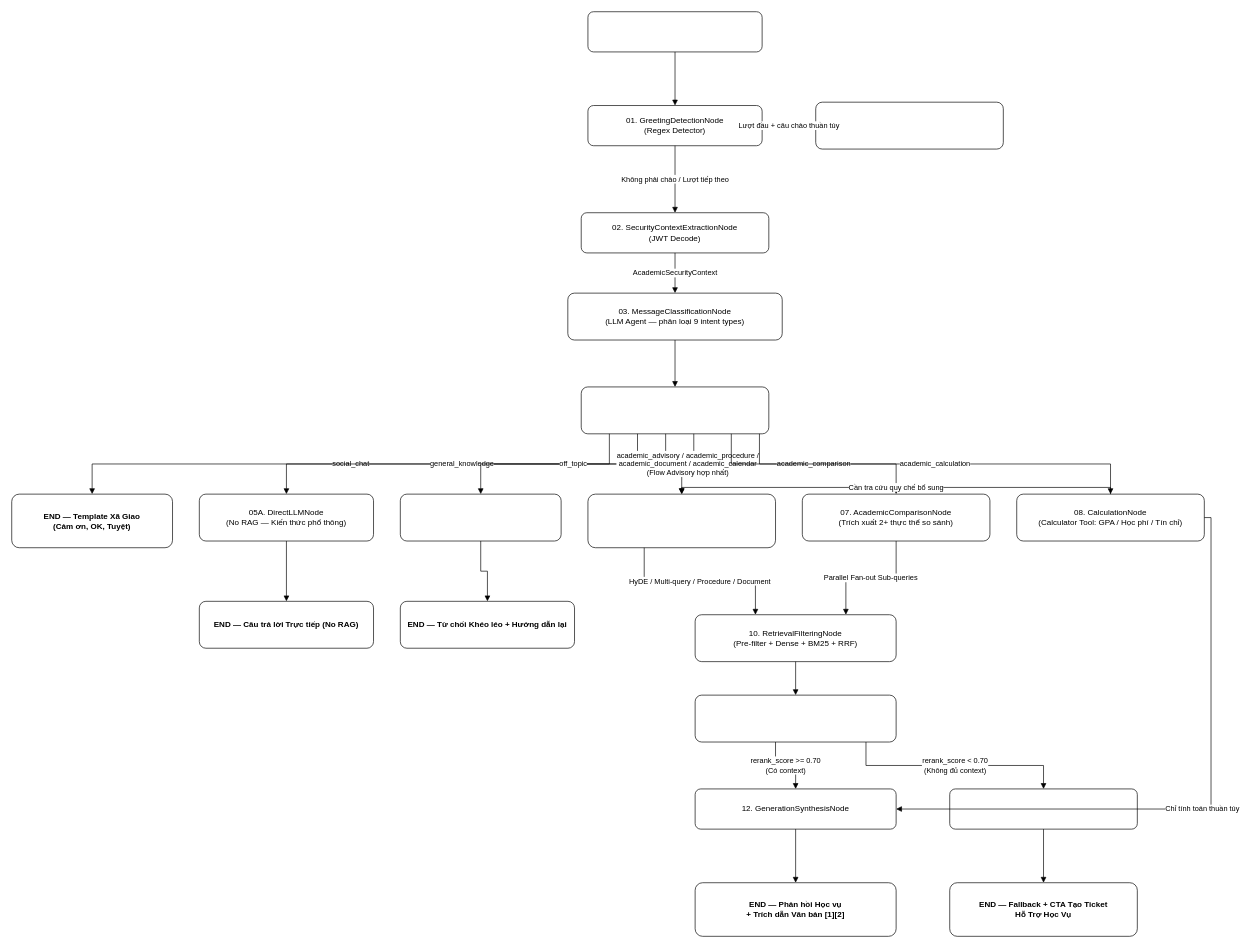
Some shapes in this 1251 by 948 pixel diagram are drawn without their labels. Here are the shapes that lost their labels. From the top down, the centre of each, then its label:
the point at 674,31: User Input
the point at 909,125: END — Template Chào (Fast Path, 0 LLM)
the point at 675,410: 04. IntentRoutingNode (Logic Router — Deterministic)
the point at 480,517: 05B. OffTopicRejectNode (Từ chối khéo léo)
the point at 681,520: 06. QueryTransformationNode (HyDE / Multi-query / Procedure / Document)
the point at 795,718: 11. PostRetrievalRerankNode (Cross-Encoder bge-reranker-base)
the point at 1043,808: 13. TicketFallbackNode
